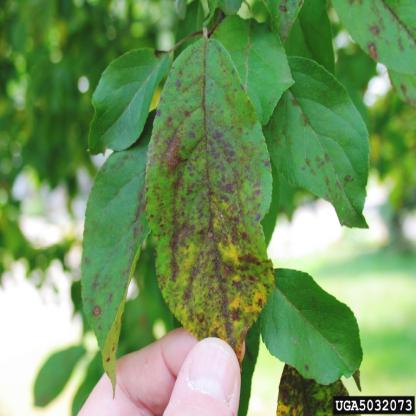apple scab leaf: (142, 43, 307, 352)
